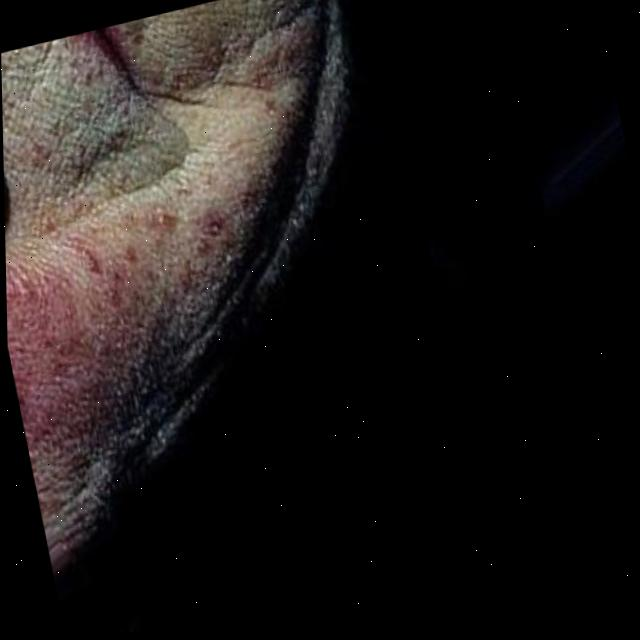Rosacea: (4, 155, 291, 440)
